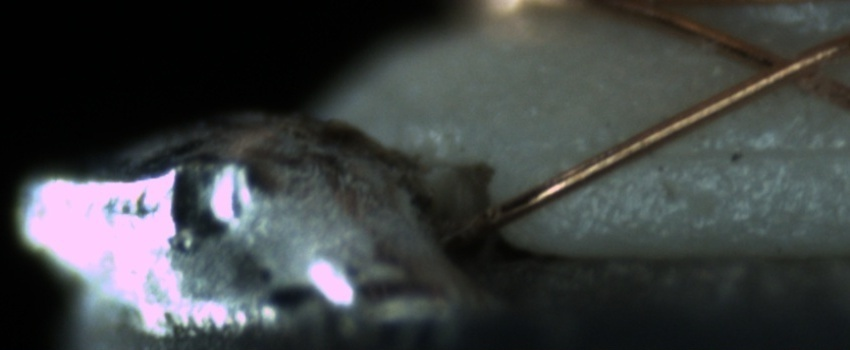CL: (728, 36, 832, 103)
DL: (626, 123, 849, 179)
